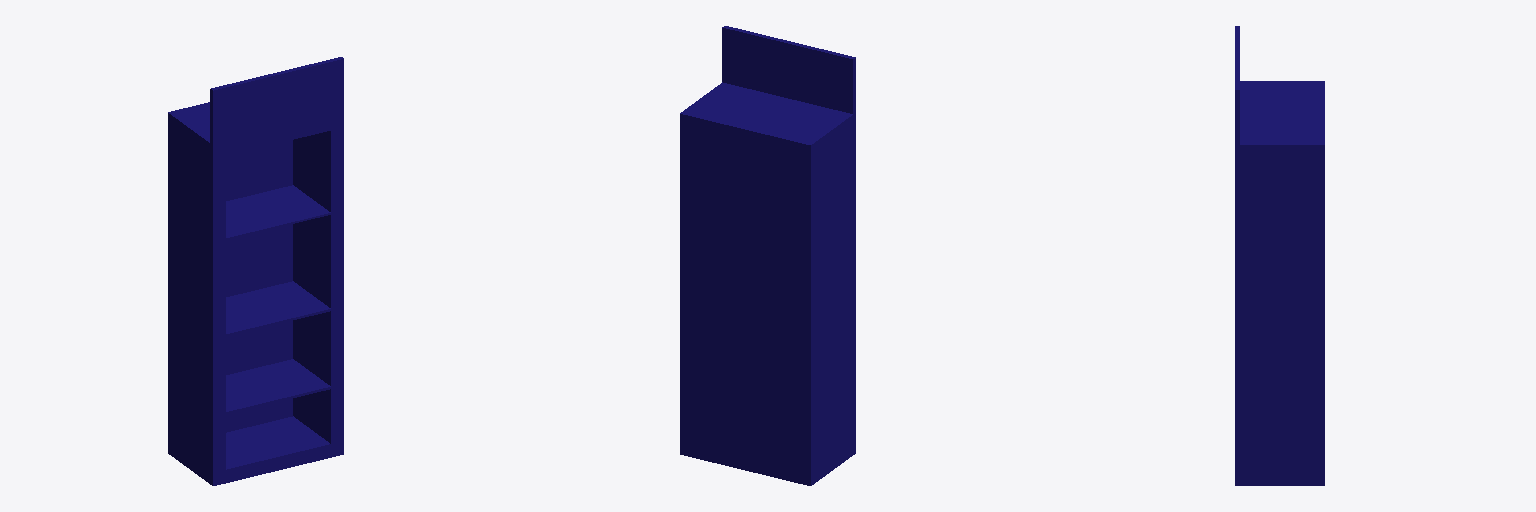
Rendered from FridgeStand.obj.
3 renders of one model, left to right at view 1: azimuth 30°, elevation 25°; view 2: azimuth 150°, elevation 25°; view 3: azimuth 270°, elevation 25°, orthographic.
Visible parts, largest first — view 1: FridgeStand; view 2: FridgeStand; view 3: FridgeStand.
Part boxes in pixels (left/top/right/bottom): FridgeStand: left=168, top=57, right=343, bottom=485; FridgeStand: left=680, top=26, right=855, bottom=485; FridgeStand: left=1235, top=26, right=1324, bottom=485.
Bounding box in the file's own units: 2.5 × 7.21 × 1.5.